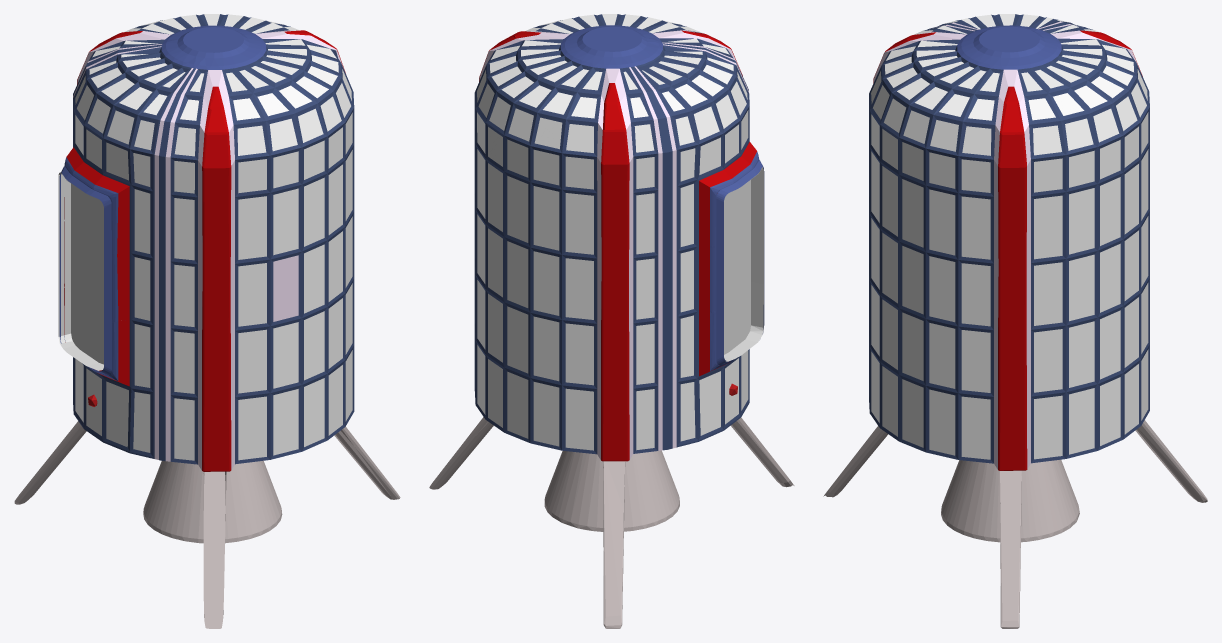
Rendered from pod-min.glb.
3 views of the same model, side by side, from view 1: azimuth 30°, elevation 25°; view 2: azimuth 150°, elevation 25°; view 3: azimuth 270°, elevation 25° (orthographic). The views are drawn at different scales.
Visible parts, largest first — view 1: Ship, Ship.002, Door, Ship.001; view 2: Ship, Ship.002, Door, Ship.001; view 3: Ship, Ship.002, Ship.001.
Boxes of the visible parts, x1,y1,x2,y2 form: Ship: (59, 14, 354, 471); Ship.002: (143, 460, 282, 543); Door: (58, 172, 103, 370); Ship.001: (14, 421, 400, 628); Ship: (474, 14, 764, 461); Ship.002: (544, 450, 679, 531); Door: (724, 167, 763, 361); Ship.001: (429, 417, 794, 628); Ship: (869, 14, 1149, 470); Ship.002: (941, 459, 1079, 542); Ship.001: (823, 420, 1207, 628).
Bounding box in the file's own units: 5.23 × 7.9 × 5.42.
